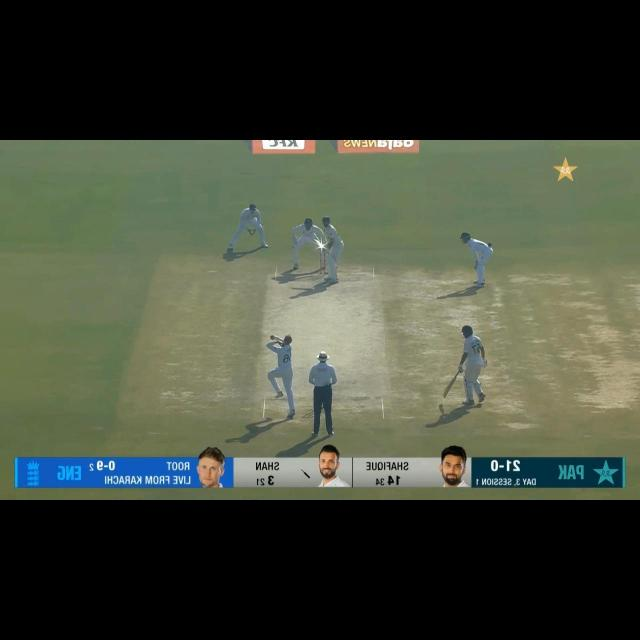bat: (444, 369, 461, 398), (314, 234, 324, 248)
toe: (443, 391, 448, 399), (312, 231, 316, 236)
